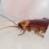cockroach: (17, 18, 48, 34)
